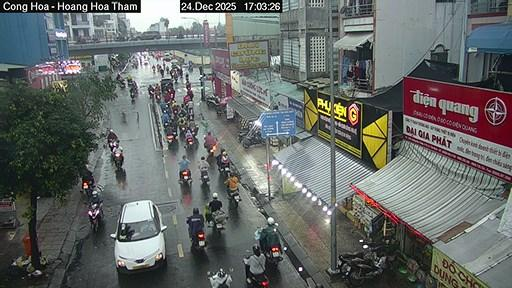motorbike: (336, 239, 381, 275), (348, 252, 386, 286), (262, 243, 281, 266), (208, 269, 230, 287), (263, 244, 281, 265), (89, 202, 101, 229), (242, 133, 265, 147), (213, 211, 227, 233), (191, 230, 205, 252), (249, 271, 268, 286), (249, 274, 268, 287), (80, 180, 92, 197), (230, 189, 240, 206), (218, 162, 230, 176), (236, 130, 249, 142), (204, 144, 216, 157), (205, 94, 217, 106), (166, 130, 176, 144), (179, 170, 189, 184), (108, 139, 118, 151), (185, 136, 195, 148), (214, 104, 224, 115), (115, 152, 122, 167), (201, 170, 208, 184), (255, 226, 262, 238), (179, 122, 185, 135), (130, 89, 137, 99), (118, 80, 124, 88), (147, 90, 153, 98), (274, 223, 277, 232), (128, 79, 131, 85), (246, 250, 249, 252), (230, 269, 231, 270)
